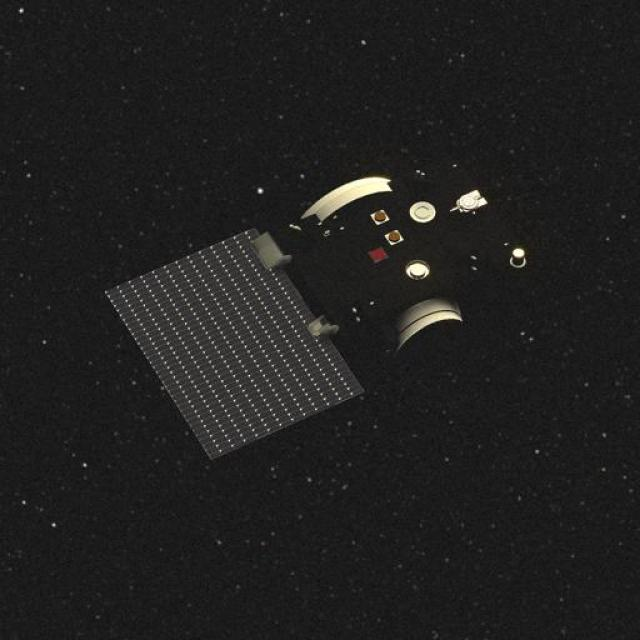proba_3_csc: (114, 134, 536, 486)
